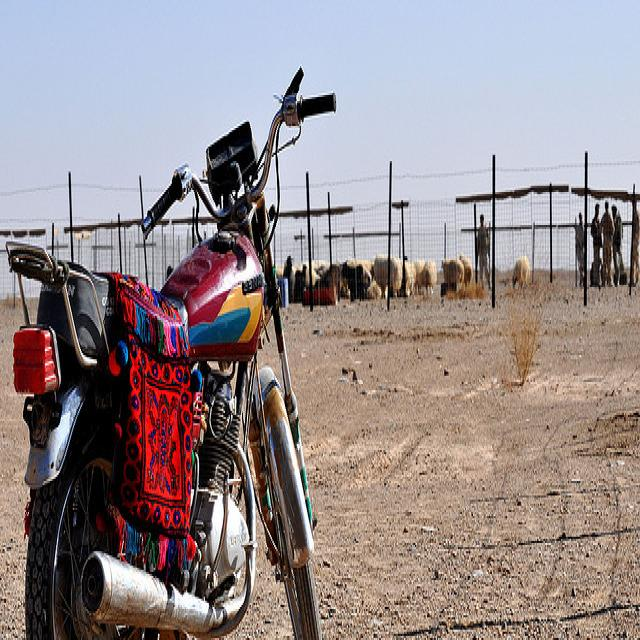motor: (4, 117, 320, 640)
